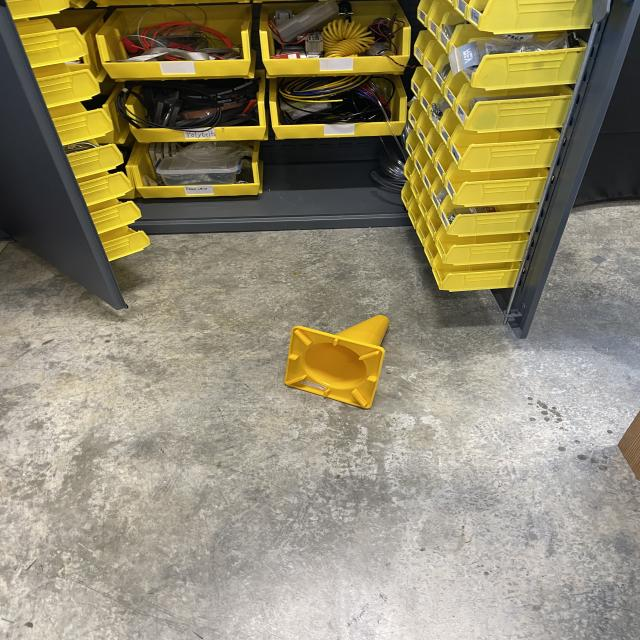frc_cone: (288, 311, 399, 411)
